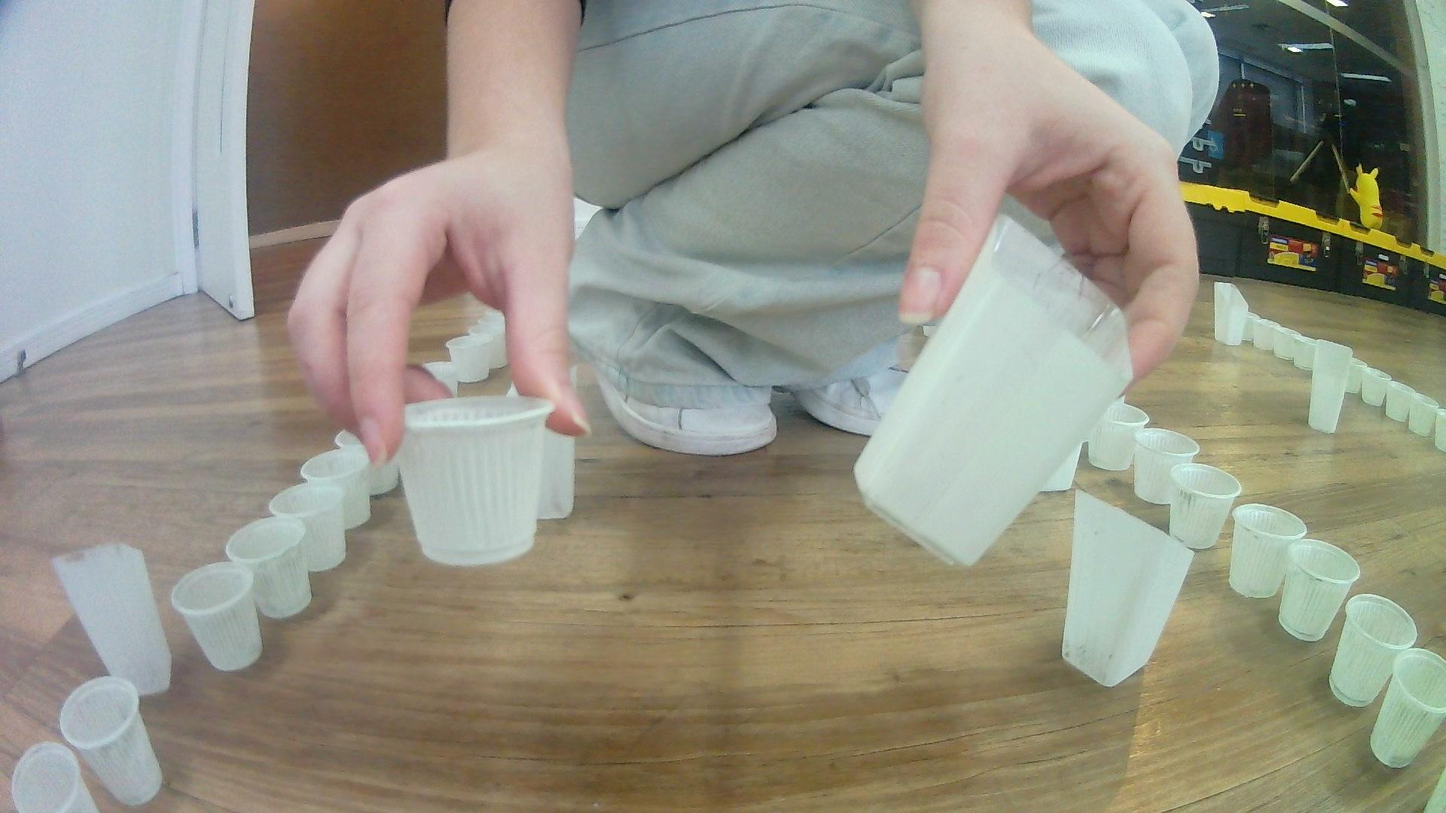erva_daninha: (851, 197, 1136, 568), (1062, 488, 1195, 688), (46, 541, 176, 697), (1306, 338, 1355, 435), (535, 425, 578, 522), (1039, 434, 1084, 493), (1213, 280, 1249, 347)
planta: (397, 394, 556, 568), (57, 675, 163, 807), (1326, 592, 1419, 708), (169, 562, 266, 673), (223, 514, 313, 622), (1368, 647, 1446, 769), (1277, 537, 1362, 643), (1228, 502, 1309, 600), (268, 480, 350, 571), (1164, 460, 1243, 550), (10, 738, 101, 813), (297, 450, 373, 531), (1132, 426, 1202, 507), (333, 430, 403, 499), (1088, 401, 1151, 472), (444, 332, 492, 385), (466, 323, 507, 369), (423, 360, 459, 400), (1383, 381, 1417, 423), (1408, 394, 1440, 438), (1243, 313, 1278, 352), (1362, 367, 1394, 407), (1273, 326, 1304, 361), (1293, 333, 1319, 372), (1347, 356, 1370, 394), (478, 310, 505, 341), (1434, 410, 1446, 453)
